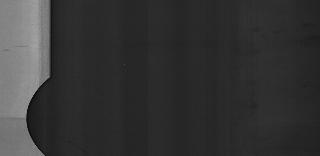welding line: (2, 109, 34, 121)
